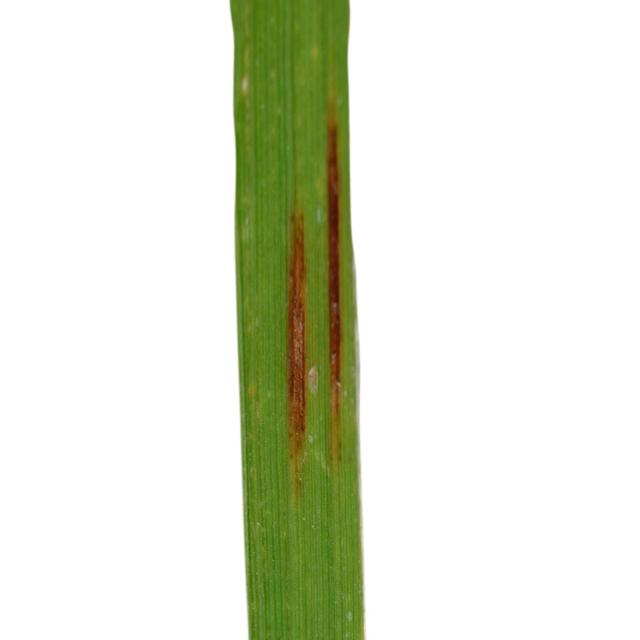Narrow brown: (188, 0, 362, 640)
